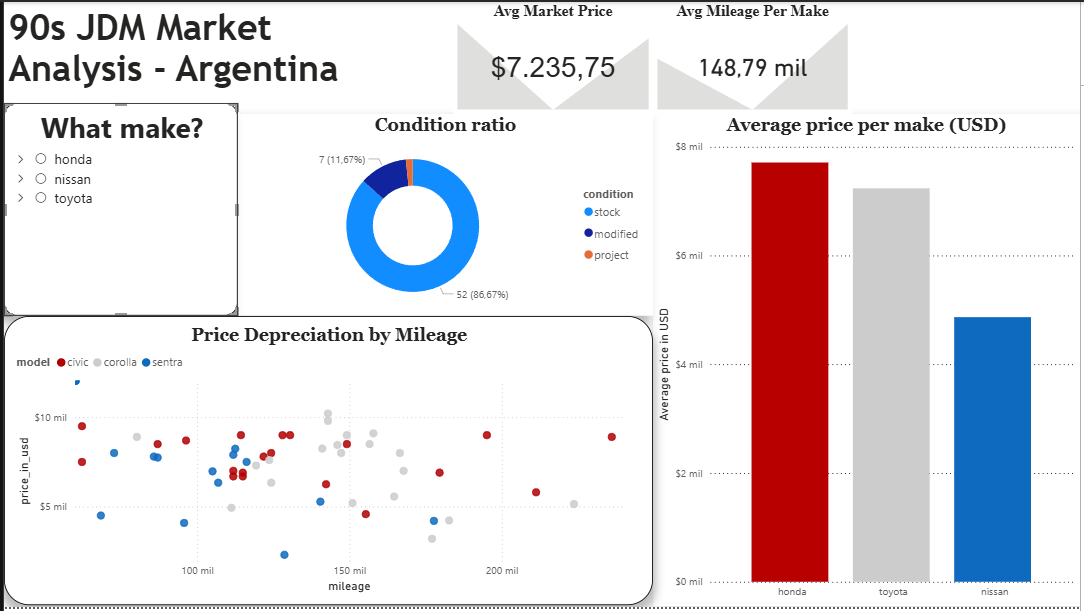

What the dashboard file says about the page in this screenshot:
{"tool":"powerbi","page":{"name":"Página 1","canvas":[1280,720],"ordinal":0},"visuals":[{"type":"clusteredColumnChart","title":"Average price per make (USD)","fields":{"Category":["clean_listings.make"],"Y":["Avg(clean_listings.price_in_usd)"]},"box":[772,133.2,508,586.5],"z":0},{"type":"donutChart","title":"Condition ratio","fields":{"Category":["clean_listings.condition"],"Y":["CountNonNull(clean_listings.listing_id)"]},"box":[278.4,133.2,493.7,240.3],"z":1000},{"type":"listSlicer","title":"What make?","fields":{"Values":["clean_listings.make","clean_listings.trim","clean_listings.transmission","clean_listings.year"]},"box":[0,120.1,278.4,253.4],"z":2000},{"type":"scatterChart","title":"Price Depreciation by Mileage","fields":{"X":["clean_listings.mileage"],"Series":["clean_listings.model"],"Y":["clean_listings.price_in_usd"]},"box":[0,373.5,772,343.8],"z":3000},{"type":"textbox","box":[0,0,412.8,120.1],"z":4000},{"type":"kpi","title":"Avg Mileage Per Make","fields":{"Indicator":["Avg(clean_listings.mileage)"],"TrendLine":["clean_listings.make"]},"box":[772,0,236.7,133.2],"z":5000},{"type":"kpi","title":"Avg Market Price","fields":{"Indicator":["Avg(clean_listings.price_in_usd)"],"TrendLine":["clean_listings.make"]},"box":[534.1,0,237.9,133.2],"z":6000}]}

Visuals, with their boxes in screenshot pixels (x1, y1, x2, y2), scaled from the page's 1280x720 canvas onto the 1084x611 screenshot:
"Average price per make (USD)" clusteredColumnChart: (left=654, top=113, right=1083, bottom=610)
"Condition ratio" donutChart: (left=236, top=113, right=654, bottom=317)
"What make?" listSlicer: (left=0, top=102, right=236, bottom=317)
"Price Depreciation by Mileage" scatterChart: (left=0, top=317, right=654, bottom=609)
textbox: (left=0, top=0, right=350, bottom=102)
"Avg Mileage Per Make" kpi: (left=654, top=0, right=854, bottom=113)
"Avg Market Price" kpi: (left=452, top=0, right=654, bottom=113)
